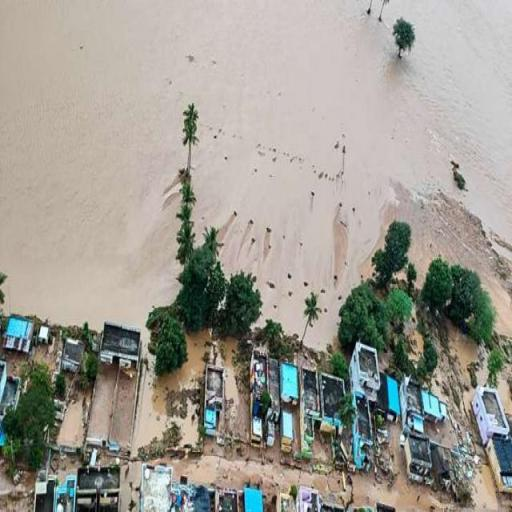flood: (57, 330, 512, 512), (450, 331, 481, 368), (499, 377, 512, 417)
house: (100, 317, 143, 376), (72, 465, 122, 512), (472, 388, 510, 440), (139, 461, 174, 512), (320, 370, 346, 436), (352, 342, 378, 400), (406, 432, 432, 482), (489, 439, 512, 494), (4, 314, 34, 353), (1, 359, 22, 414), (422, 384, 448, 426), (248, 348, 270, 395), (204, 364, 226, 411), (61, 334, 84, 376), (279, 362, 300, 404), (34, 472, 56, 512), (213, 487, 240, 512), (242, 484, 265, 512), (299, 485, 320, 512), (274, 490, 296, 512), (35, 323, 51, 346)
